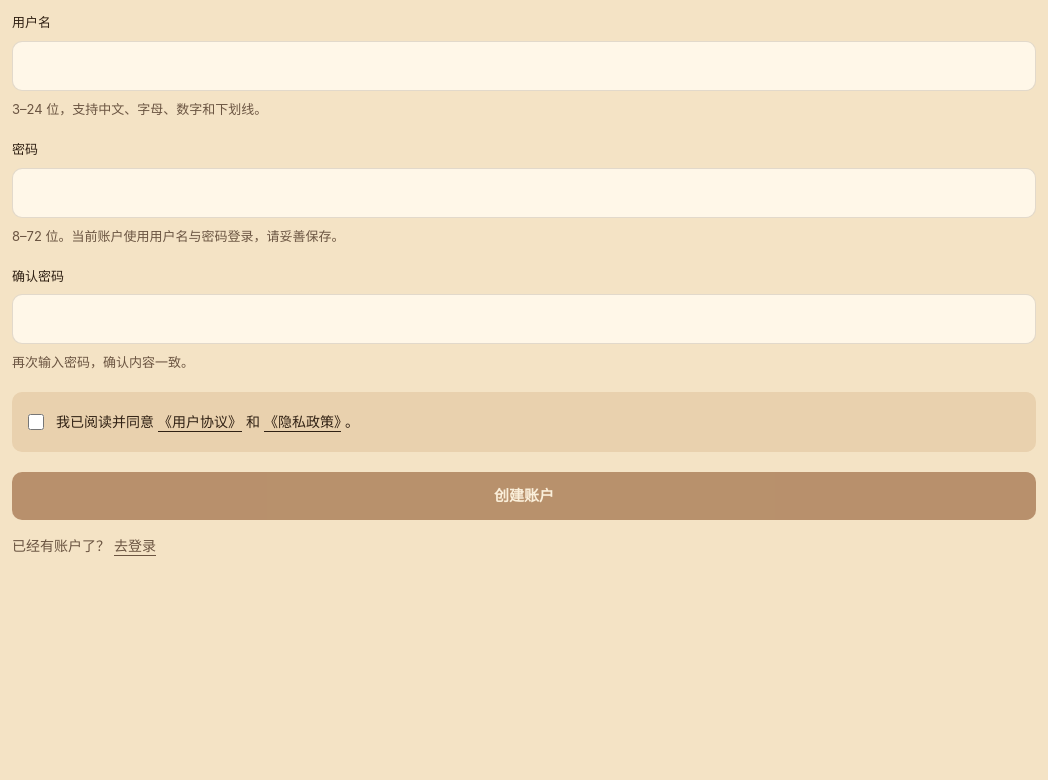
Test case: auth ui › shows password mismatch error on register submit
Type "dailylight" into the field labelled "用户名" at (524, 66), box [12,41,1036,91]
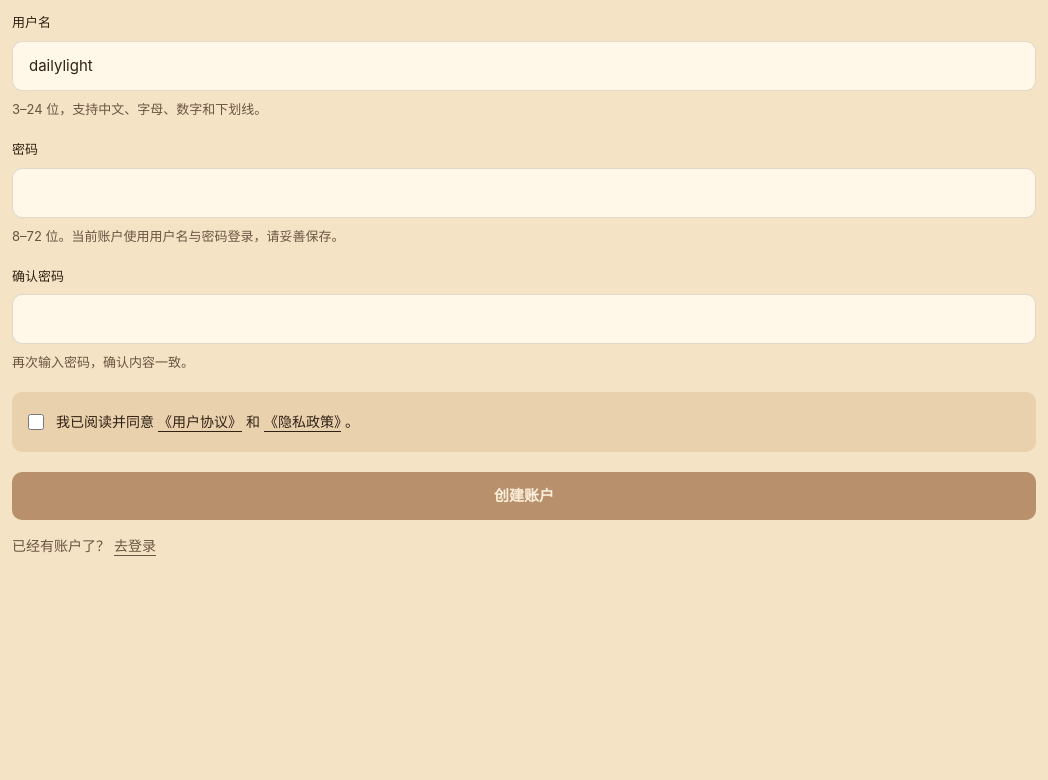
Type "safe-password" into the password field labelled "密码" at (524, 193), box [12,168,1036,218]
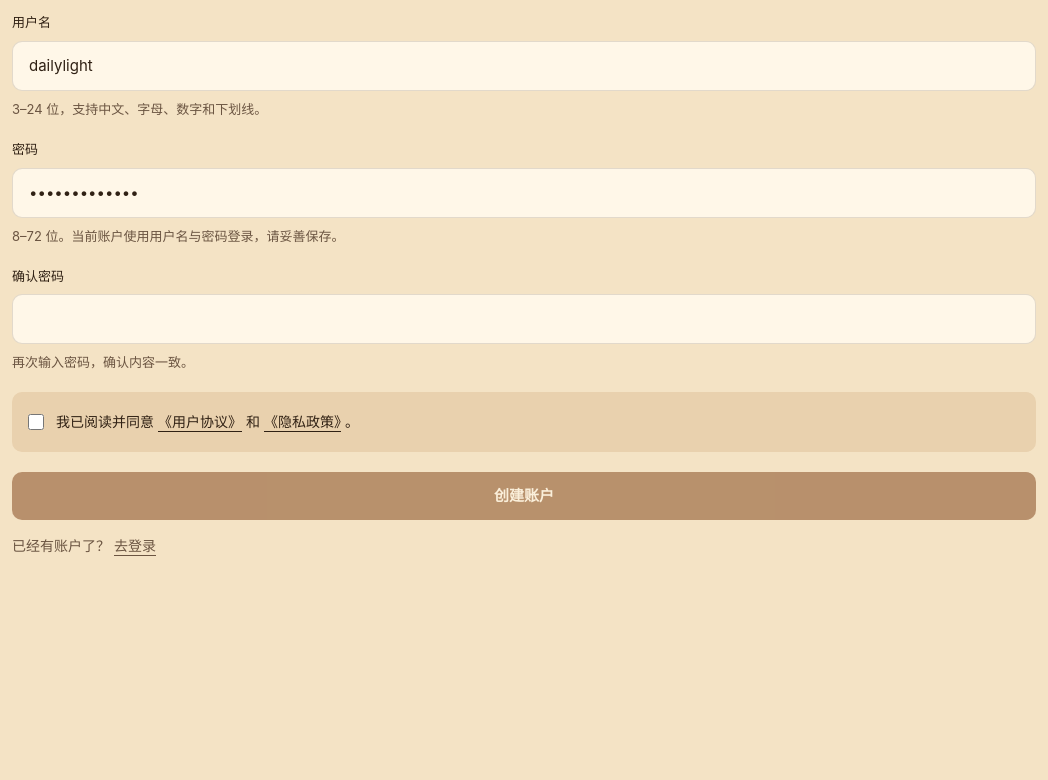
Type "other-password" into the password field labelled "确认密码" at (524, 319), box [12,294,1036,344]
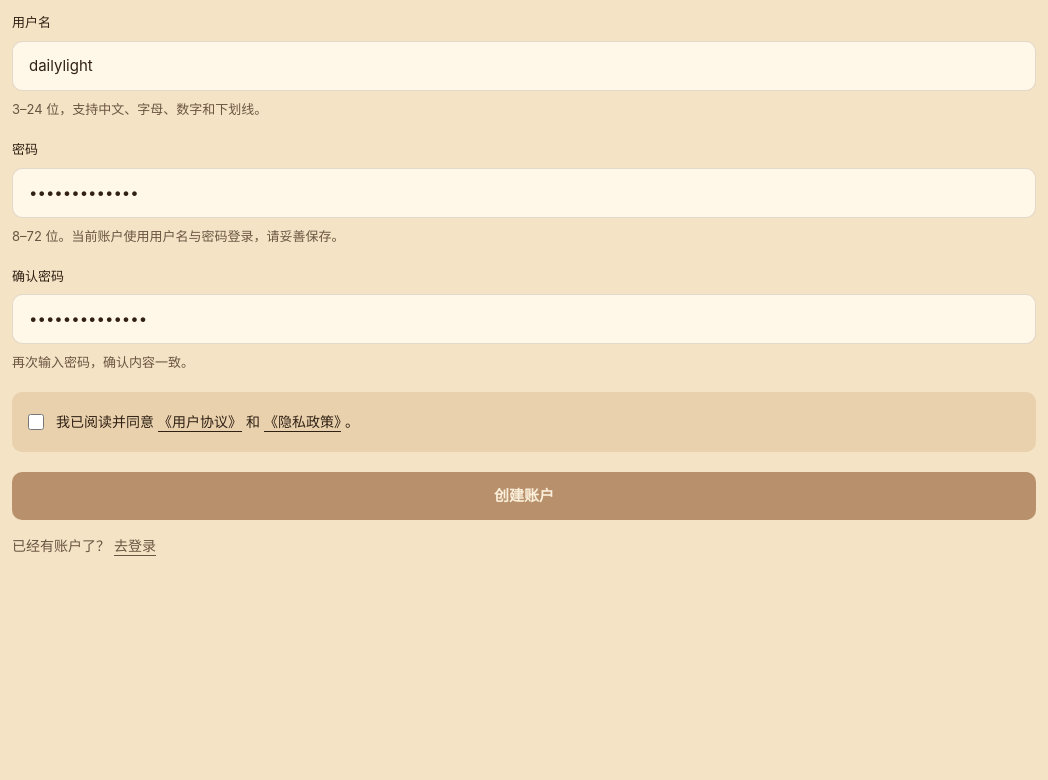
Leave the password field labelled "确认密码", box [12,294,1036,344]
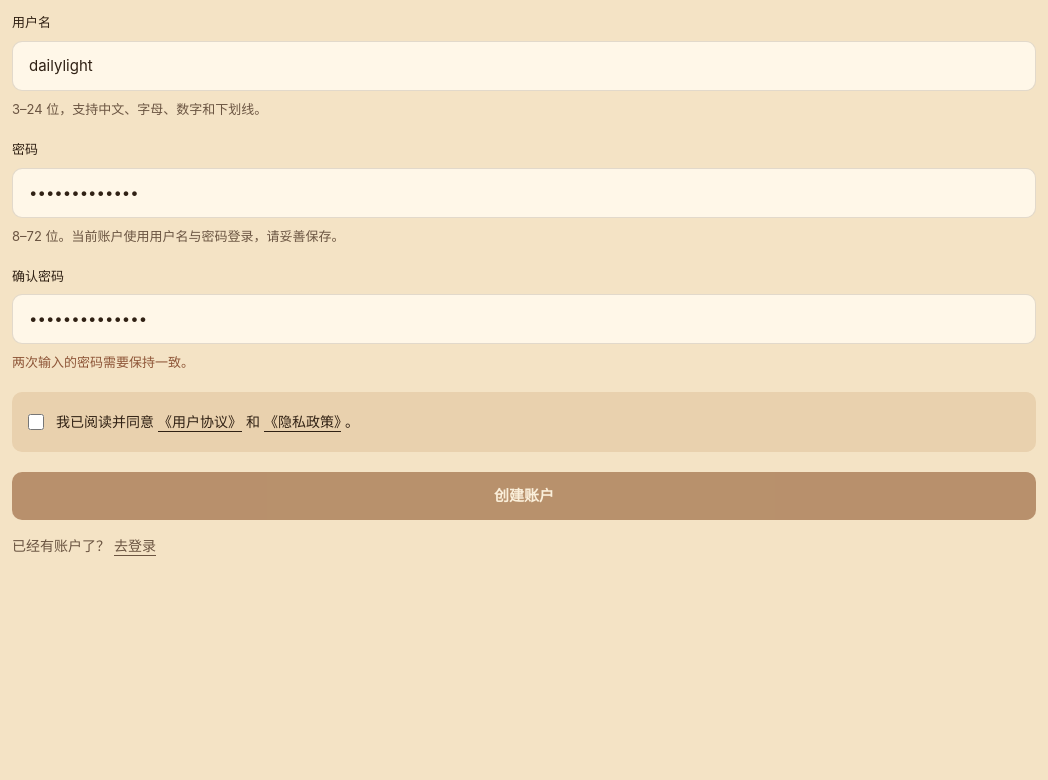
Expected: the text "两次输入的密码需要保持一致。" is shown, [12,354,194,370]
